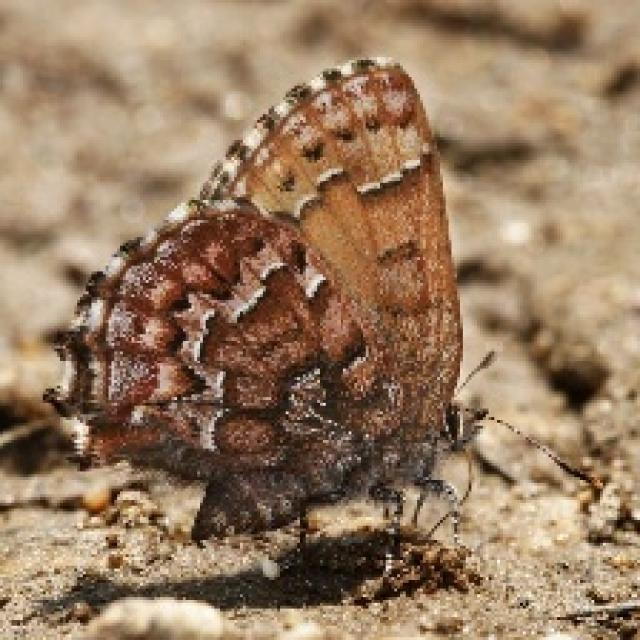butterfly: (40, 51, 603, 572)
